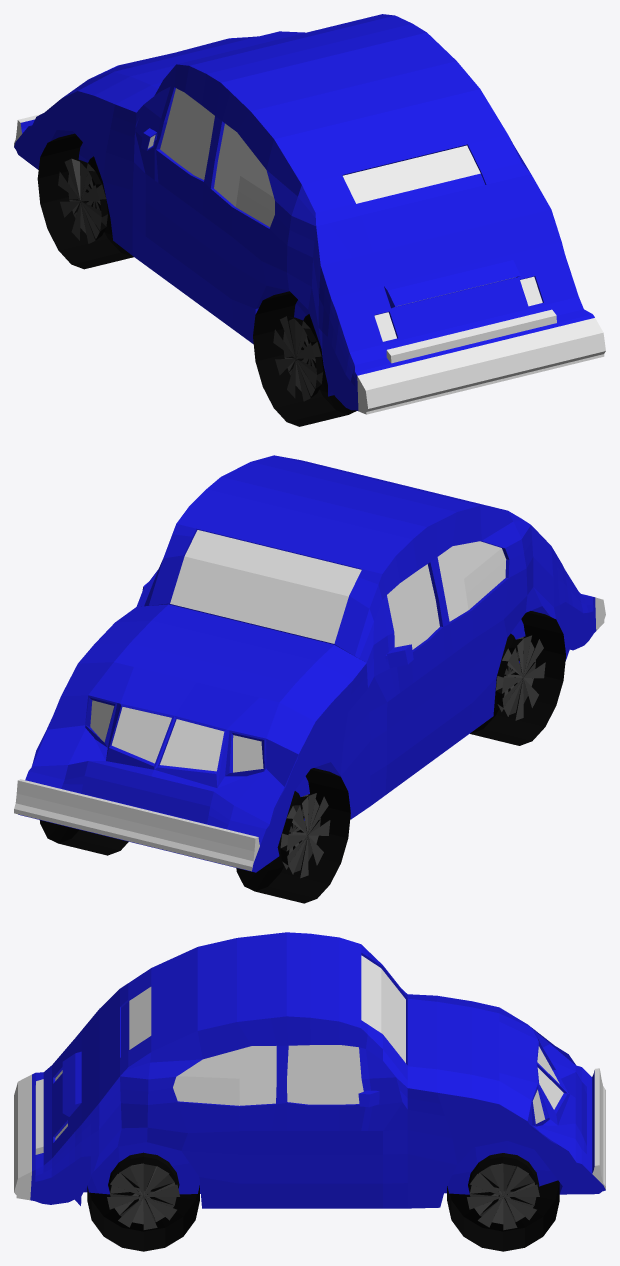
Rendered from car.dae.
3 views of the same model, one above another, from view 1: azimuth 30°, elevation 25°; view 2: azimuth 150°, elevation 25°; view 3: azimuth 270°, elevation 25° (orthographic). The views are drawn at different scales.
Parts seen in each view (by area): view 1: Cube; view 2: Cube; view 3: Cube.
Boxes of the visible parts, x1=… form: Cube: x1=14, y1=14, x2=605, y2=426; Cube: x1=14, y1=455, x2=605, y2=903; Cube: x1=14, y1=932, x2=605, y2=1251.
Bounding box in the file's own units: 2.11 × 4.84 × 2.05.
